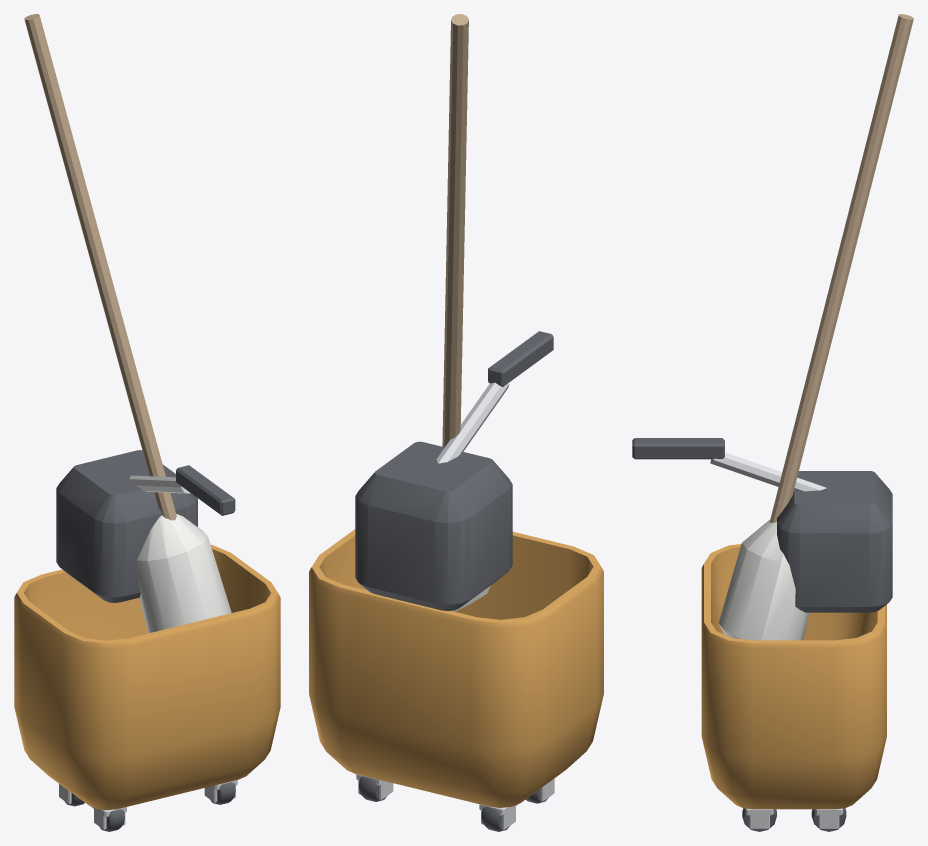
Rendered from office-lobby-and-facilities-mop-and-bucket-set-97a4d66e__26263.glb.
3 views of the same model, side by side, from view 1: azimuth 30°, elevation 25°; view 2: azimuth 150°, elevation 25°; view 3: azimuth 270°, elevation 25° (orthographic). The views are drawn at different scales.
Visible parts, largest first — view 1: mop-and-bucket-set; view 2: mop-and-bucket-set; view 3: mop-and-bucket-set.
Part boxes in pixels (x1=…): mop-and-bucket-set: x1=14, y1=14, x2=280, y2=831; mop-and-bucket-set: x1=309, y1=14, x2=603, y2=831; mop-and-bucket-set: x1=632, y1=14, x2=913, y2=831.
Size of the model in its own units: 0.42 by 1.45 by 0.4863.
